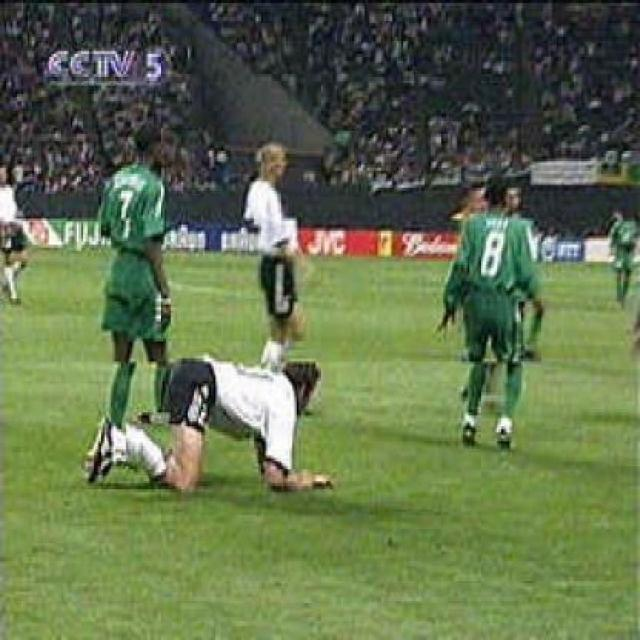fall: (79, 328, 344, 503)
